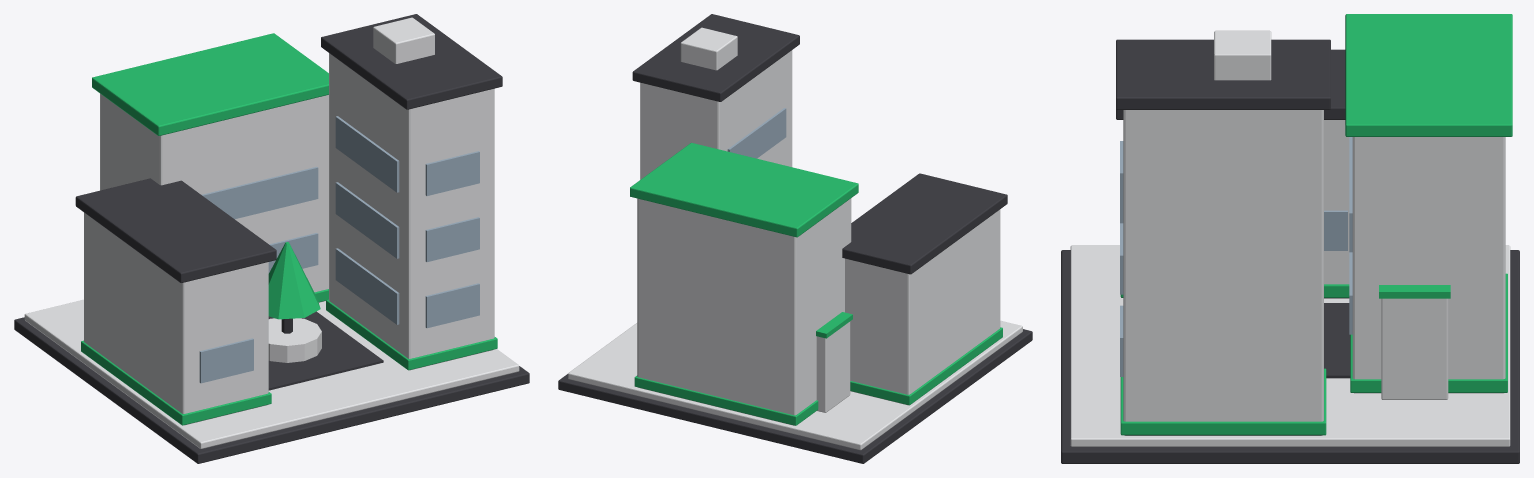
Rendered from cluster.glb.
3 renders of one model, left to right at view 1: azimuth 30°, elevation 25°; view 2: azimuth 150°, elevation 25°; view 3: azimuth 270°, elevation 25°, orthographic. The views are drawn at different scales.
Visible parts, largest first — view 1: cluster; view 2: cluster; view 3: cluster.
Boxes of the visible parts, bbox=[...] form: cluster: bbox=[14, 14, 529, 463]; cluster: bbox=[558, 14, 1032, 463]; cluster: bbox=[1061, 14, 1519, 463].
Size of the model in its own units: 10 by 9 by 9.6.
